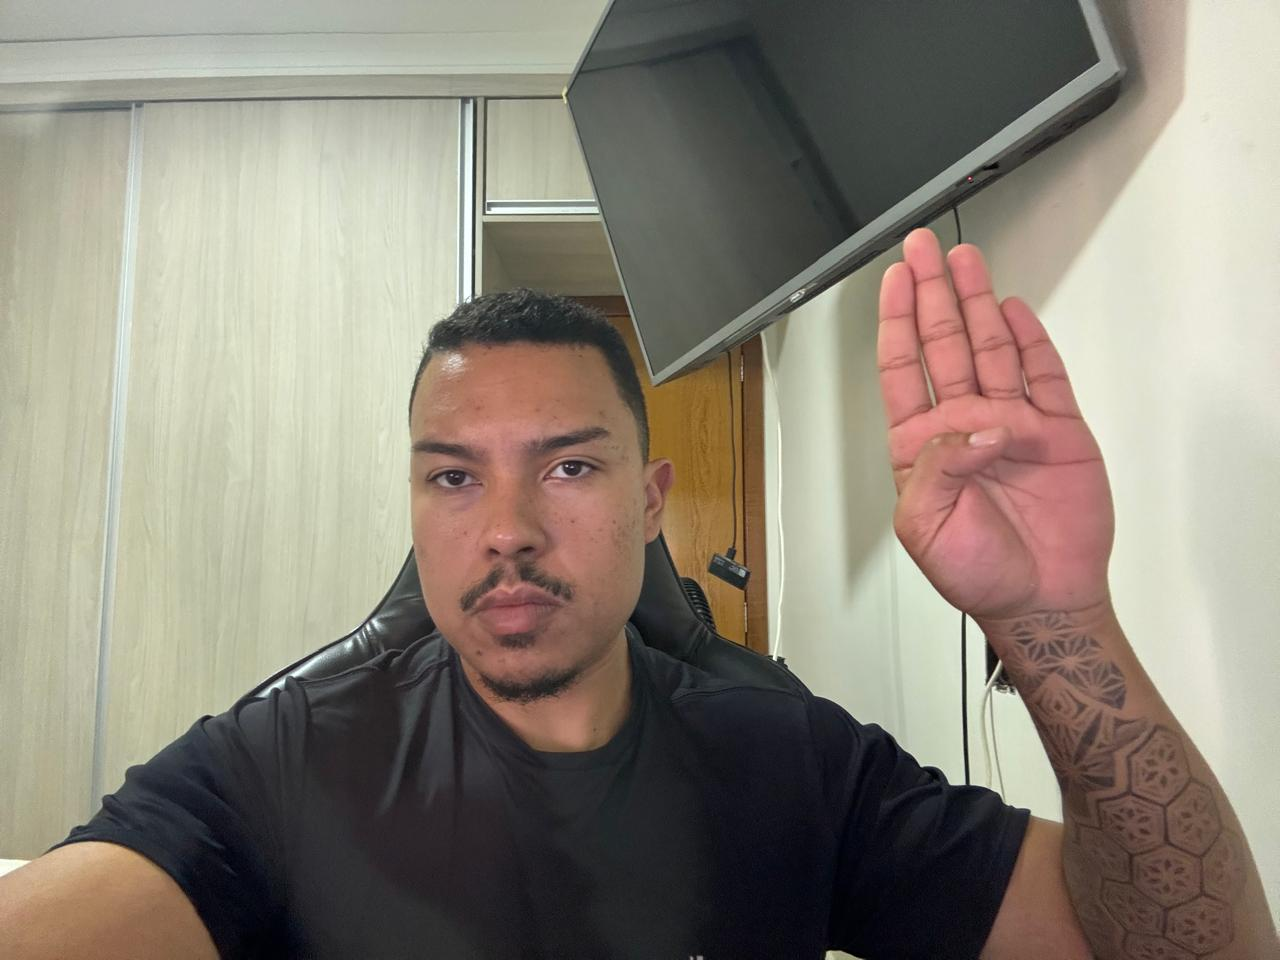b: (860, 221, 1137, 621)
